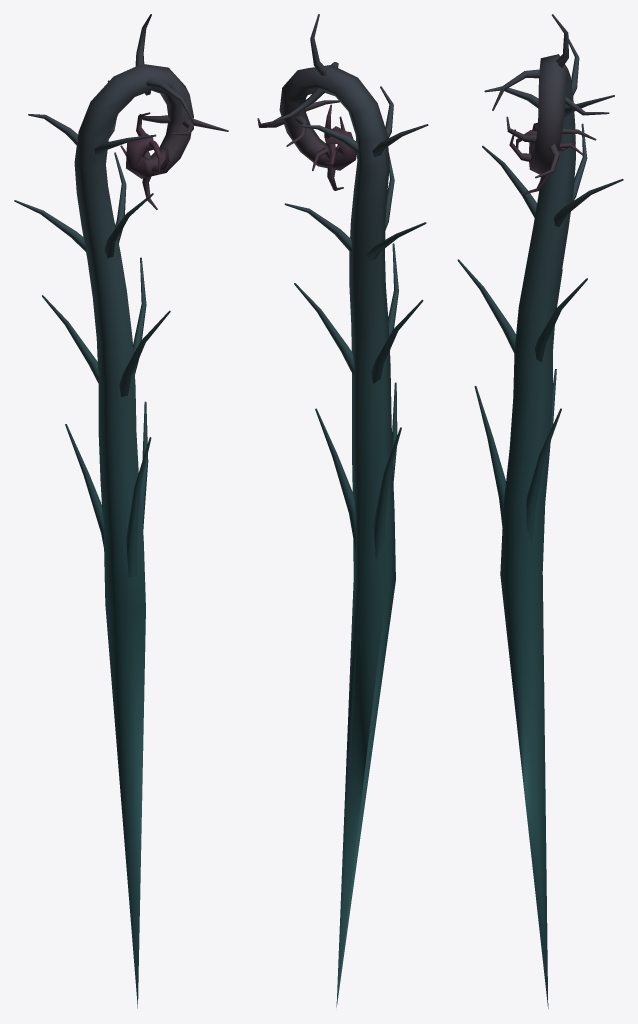
File: plants-bushes-twigs-thorny-tendril_v5.glb
3 renders of one model, left to right at view 1: azimuth 30°, elevation 25°; view 2: azimuth 150°, elevation 25°; view 3: azimuth 270°, elevation 25°, orthographic.
Visible parts, largest first — view 1: Thorny Tendril_v5; view 2: Thorny Tendril_v5; view 3: Thorny Tendril_v5.
Boxes of the visible parts, x1=… form: Thorny Tendril_v5: x1=14, y1=14, x2=228, y2=1008; Thorny Tendril_v5: x1=257, y1=14, x2=428, y2=1007; Thorny Tendril_v5: x1=457, y1=14, x2=623, y2=1008.
Size of the model in its own units: 0.1011 by 0.5 by 0.075.
